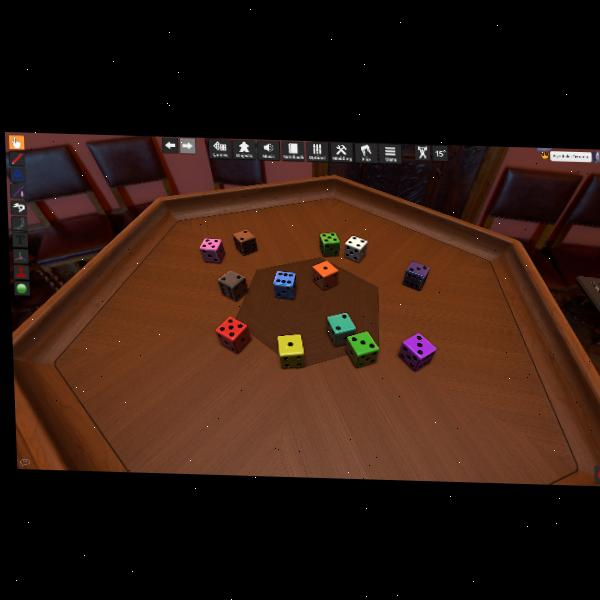d6: (399, 332, 436, 372), (343, 330, 380, 369), (214, 315, 250, 354), (326, 311, 355, 347), (217, 268, 248, 301), (278, 333, 306, 369), (402, 260, 430, 290), (312, 260, 338, 291), (273, 271, 298, 300), (342, 234, 367, 263), (232, 228, 257, 256), (200, 237, 225, 263), (319, 231, 340, 258)
